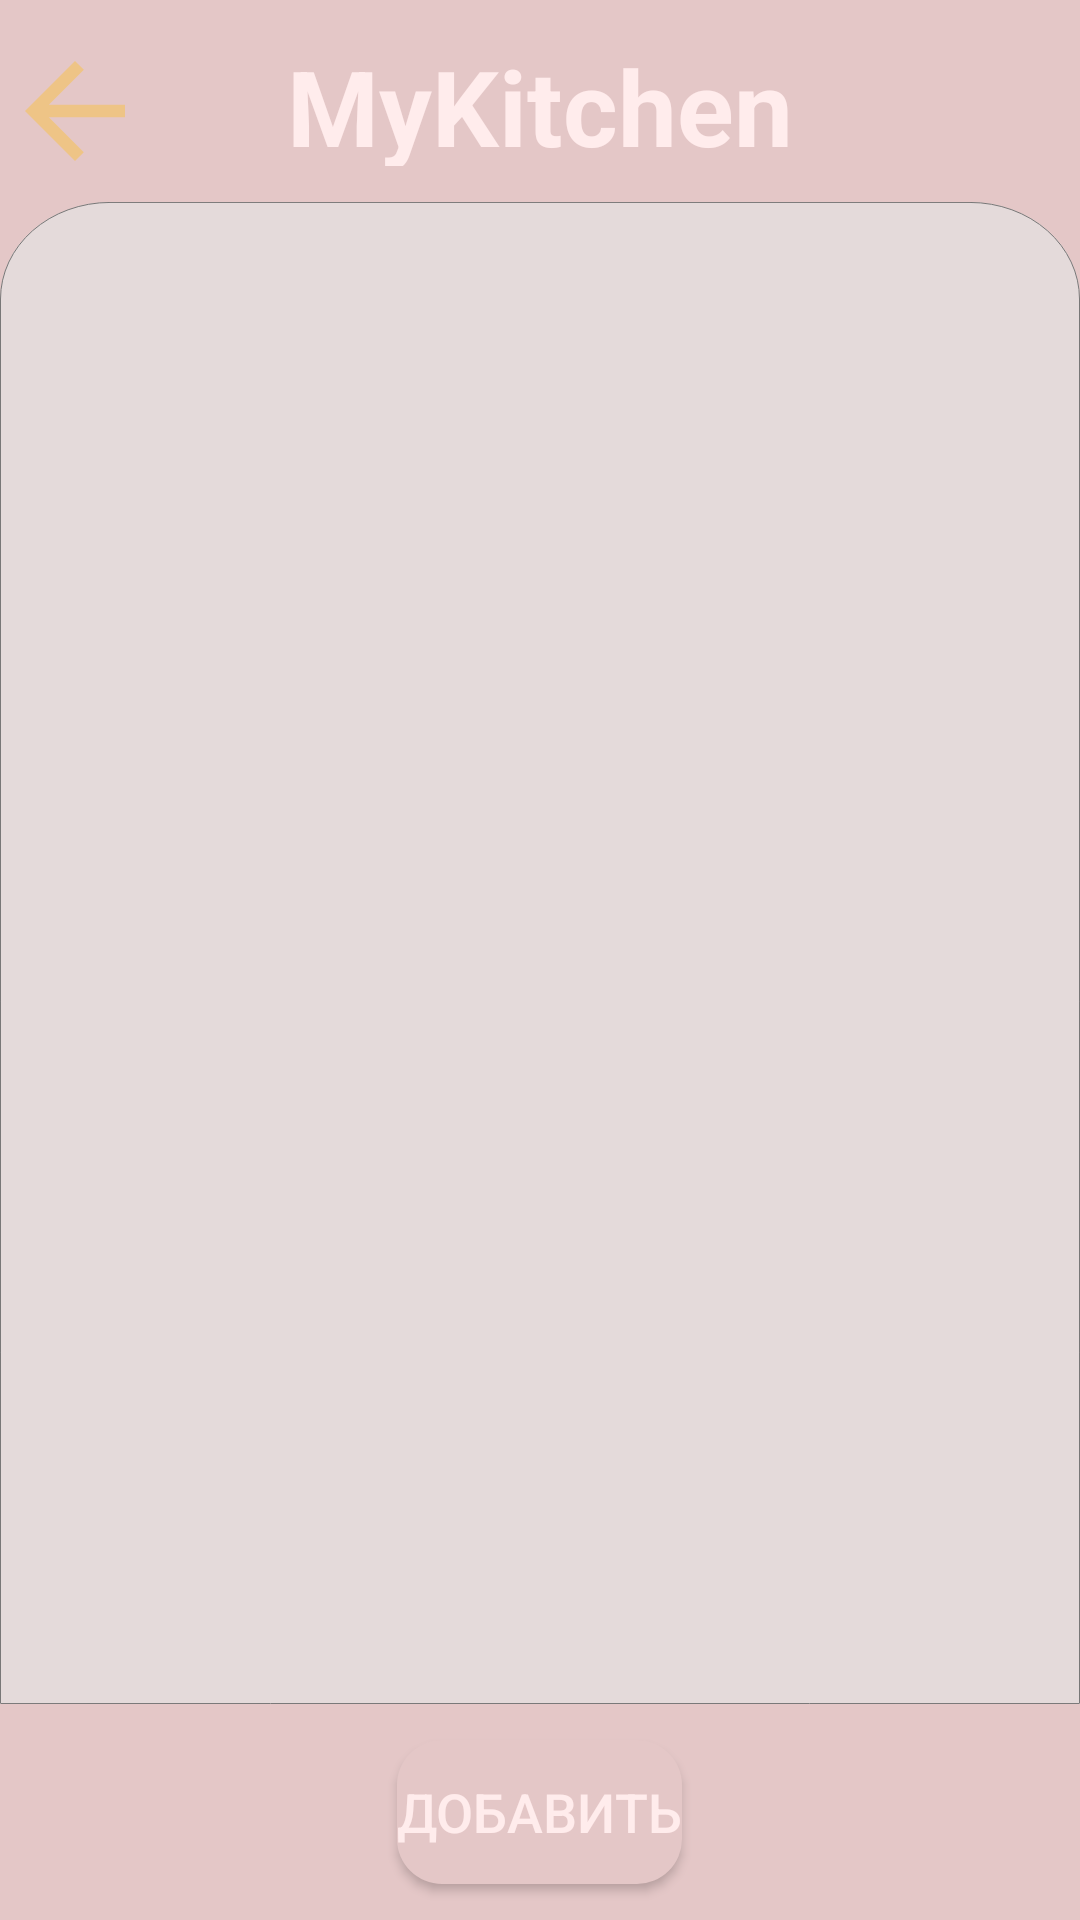

Icon click points for this 1080px x 1920px phone screenshot, format point (x, y):
arrow back: point (75, 111)
